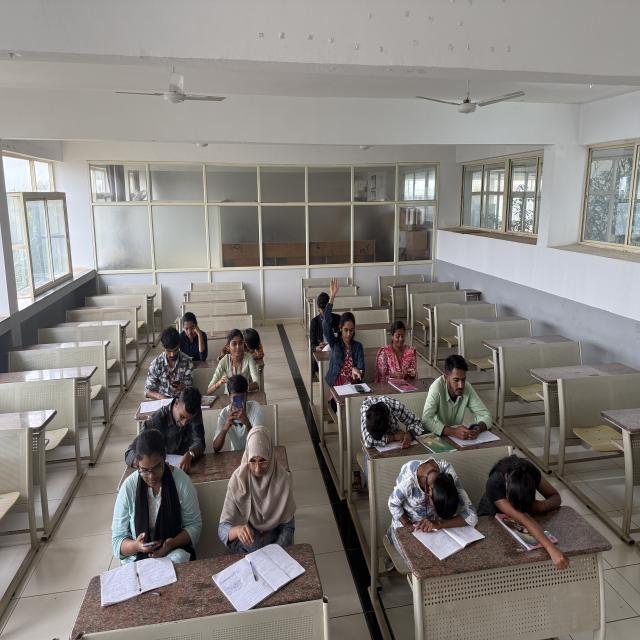Hand Rising: (321, 272, 368, 376)
Reading: (222, 424, 296, 569)
Sleeping: (473, 450, 568, 558), (386, 449, 480, 541), (353, 391, 428, 461), (216, 326, 268, 367)
Using Phone: (113, 425, 196, 567), (420, 348, 496, 444), (145, 322, 197, 400), (210, 372, 264, 438), (370, 318, 423, 382)
Writing: (123, 384, 205, 466), (308, 290, 344, 356)
